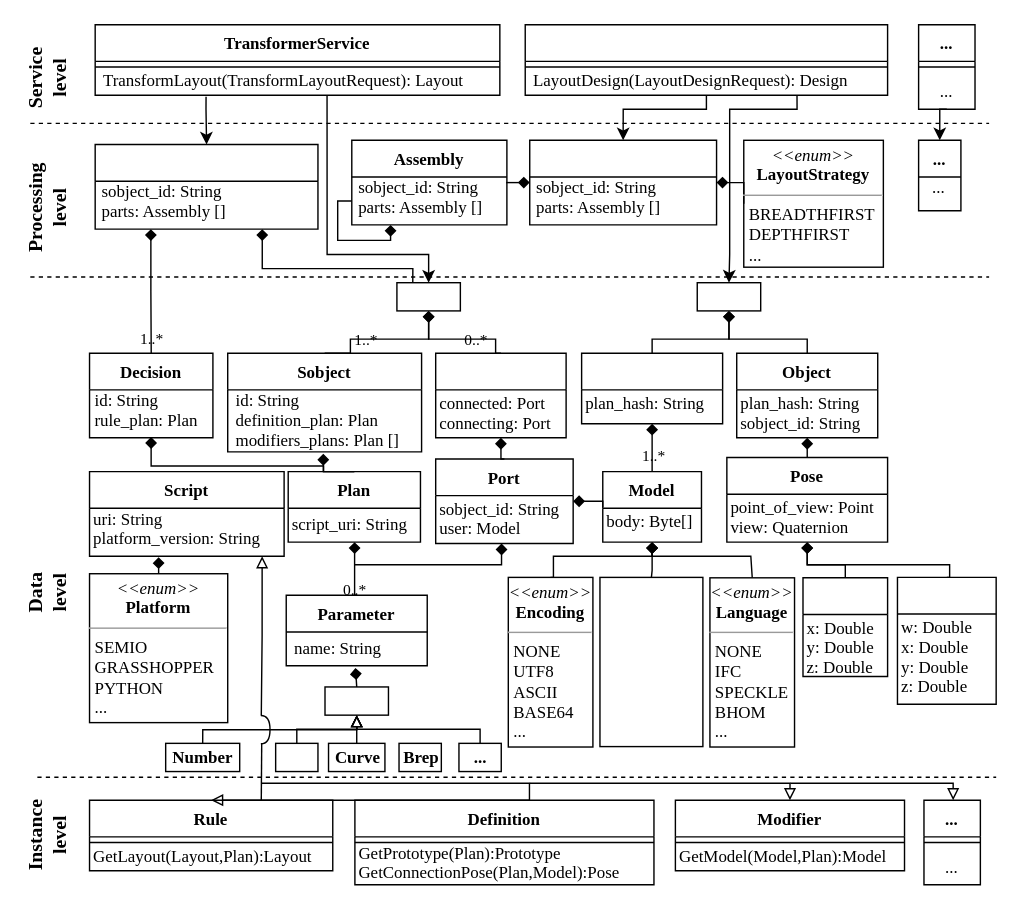
This 1022x914 diagram has some shape labels left out. The shapes that lost their labels are listed below. From the top down, each one's box as (x1, y1, x2, y2) in pixels, then its label:
(524, 23, 888, 95): LayouterService
(94, 143, 318, 229): TransformLayoutRequest
(528, 139, 717, 225): LayoutDesignRequest
(396, 281, 460, 311): Layout
(696, 281, 761, 311): Design
(434, 352, 566, 438): Connection
(580, 352, 723, 424): Prototype
(802, 576, 888, 677): Point
(896, 576, 996, 704): Quaternion
(599, 576, 703, 747): <<enum>> Serialization NONE JSON XML YAML ...
(324, 686, 388, 715): Value
(274, 742, 318, 772): Text
